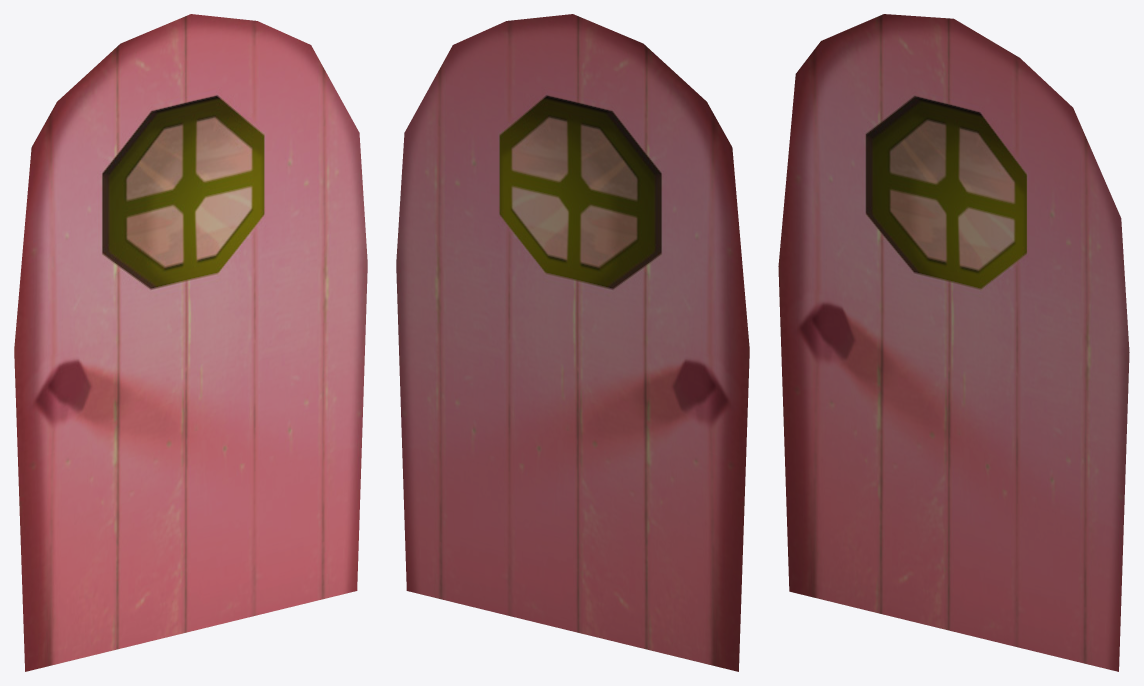
The model's file is outsidehouse_bigsdoor.dae.
3 renders of one model, left to right at view 1: azimuth 30°, elevation 25°; view 2: azimuth 150°, elevation 25°; view 3: azimuth 330°, elevation 25°, orthographic.
Parts seen in each view (by area): view 1: BigDoor; view 2: BigDoor; view 3: BigDoor.
Boxes of the visible parts, bbox=[...] form: BigDoor: bbox=[14, 14, 367, 671]; BigDoor: bbox=[396, 14, 749, 671]; BigDoor: bbox=[778, 14, 1129, 671].
Size of the model in its own units: 6.57 by 10.96 by 3.46e-15.
1 material, 1 textured.
